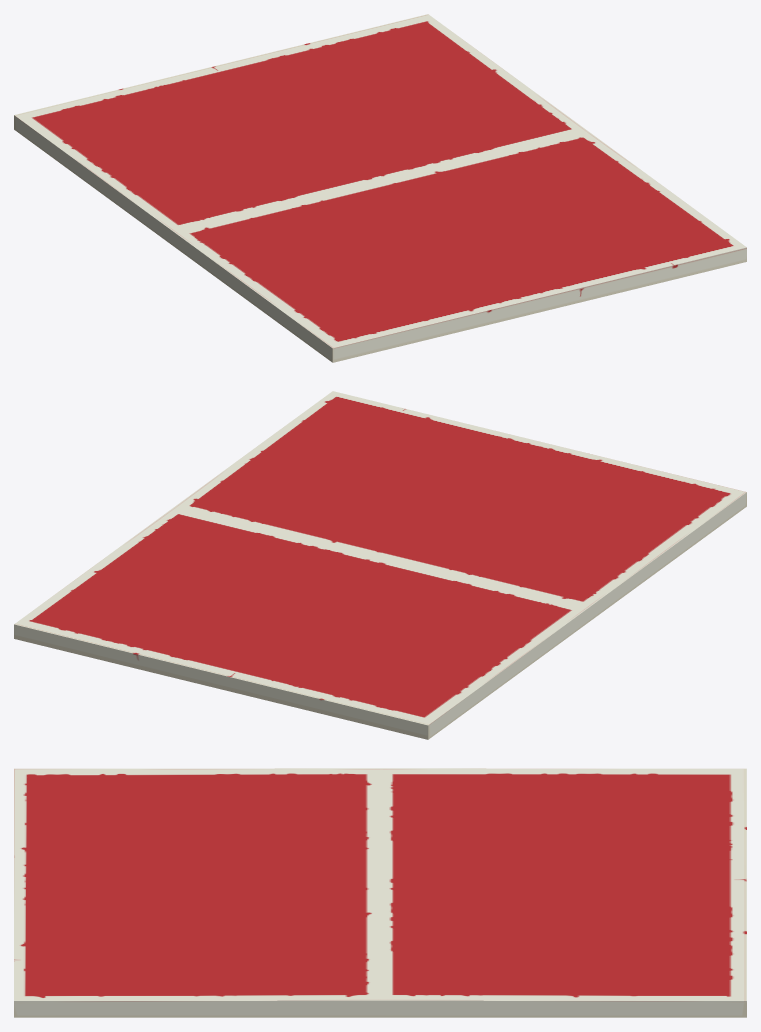
File: tampao.FBX
3 renders of one model, top to bottom at view 1: azimuth 30°, elevation 25°; view 2: azimuth 150°, elevation 25°; view 3: azimuth 270°, elevation 25°, orthographic. The views are drawn at different scales.
Parts seen in each view (by area): view 1: tampaoMesa01; view 2: tampaoMesa01; view 3: tampaoMesa01.
Part boxes in pixels (x1,y1,x2,y2): tampaoMesa01: (14,14,746,362); tampaoMesa01: (14,391,746,739); tampaoMesa01: (14,768,746,1017).
Bounding box in the file's own units: 150 × 5.04 × 200.
